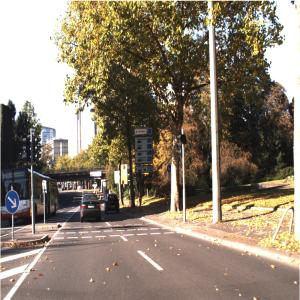keep right: (6, 191, 20, 216)
